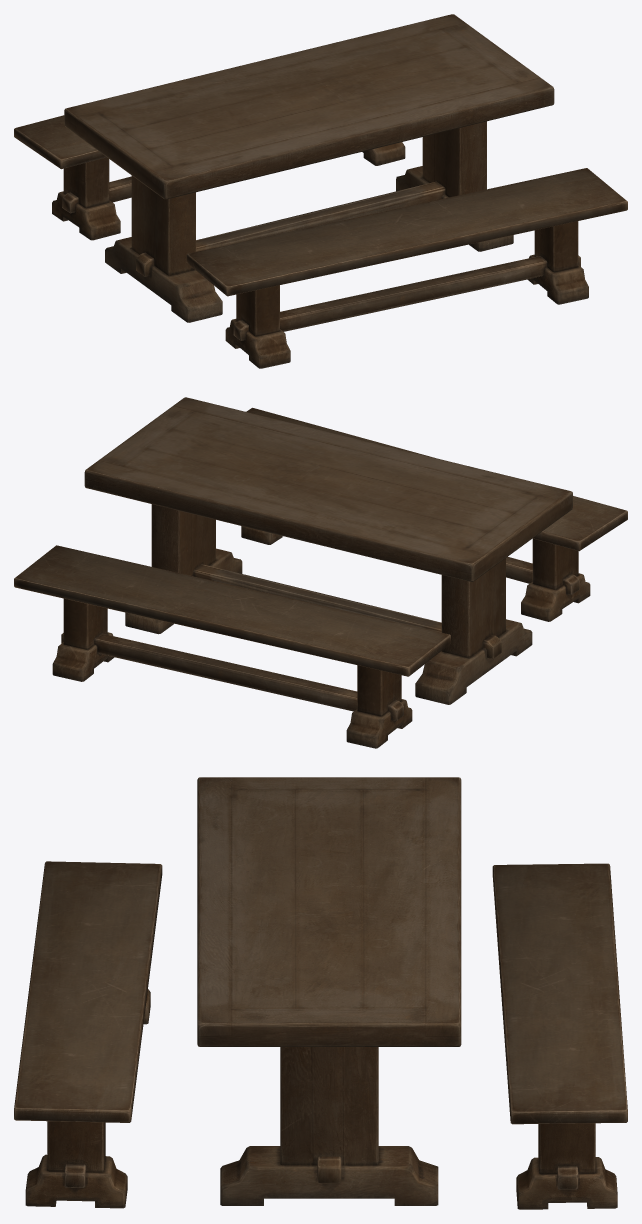
File: wooden_bench_and_table_lowpoly.glb
3 renders of one model, top to bottom at view 1: azimuth 30°, elevation 25°; view 2: azimuth 150°, elevation 25°; view 3: azimuth 270°, elevation 25°, orthographic. The views are drawn at different scales.
Visible parts, largest first — view 1: wooden_table, wooden_bench, wooden_bench.001; view 2: wooden_table, wooden_bench.001, wooden_bench; view 3: wooden_table, wooden_bench, wooden_bench.001.
Part boxes in pixels (x1,y1,x2,y2): wooden_table: (64,14,554,322); wooden_bench: (186,168,627,368); wooden_bench.001: (14,115,405,240); wooden_table: (84,397,572,704); wooden_bench.001: (14,545,450,748); wooden_bench: (241,407,627,621); wooden_table: (197,777,461,1205); wooden_bench: (14,861,162,1208); wooden_bench.001: (492,863,627,1209).
Bounding box in the file's own units: 205 × 76 × 209.
2 materials, 2 textured.
